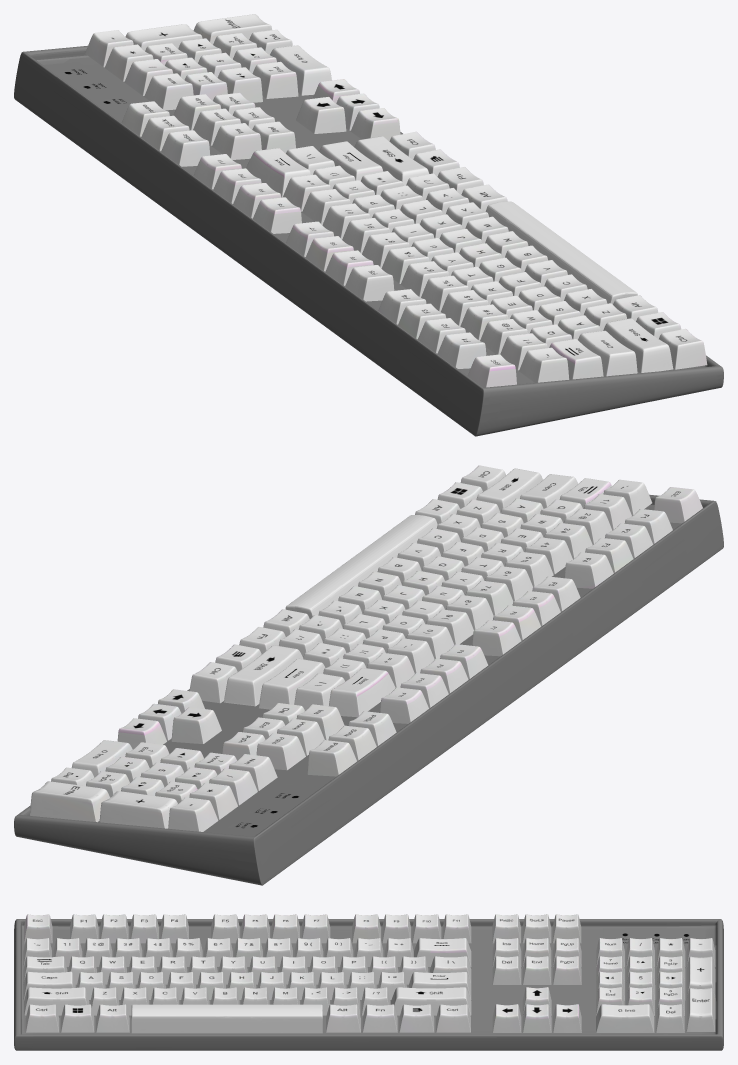
Rendered from full_size_keyboard_white-transformed.glb.
The picture shows the model from 3 angles, top to bottom: view 1: azimuth 30°, elevation 25°; view 2: azimuth 150°, elevation 25°; view 3: azimuth 270°, elevation 25°; orthographic projection. The views are drawn at different scales.
Parts seen in each view (by area): view 1: qwerty; view 2: qwerty; view 3: qwerty.
Part boxes in pixels (<box>): qwerty: <box>14,14,723,436</box>; qwerty: <box>14,465,723,885</box>; qwerty: <box>14,914,723,1050</box>.
Size of the model in its own units: 5.55 by 1.5 by 18.04.
Materials: 2 (1 with a texture image).
